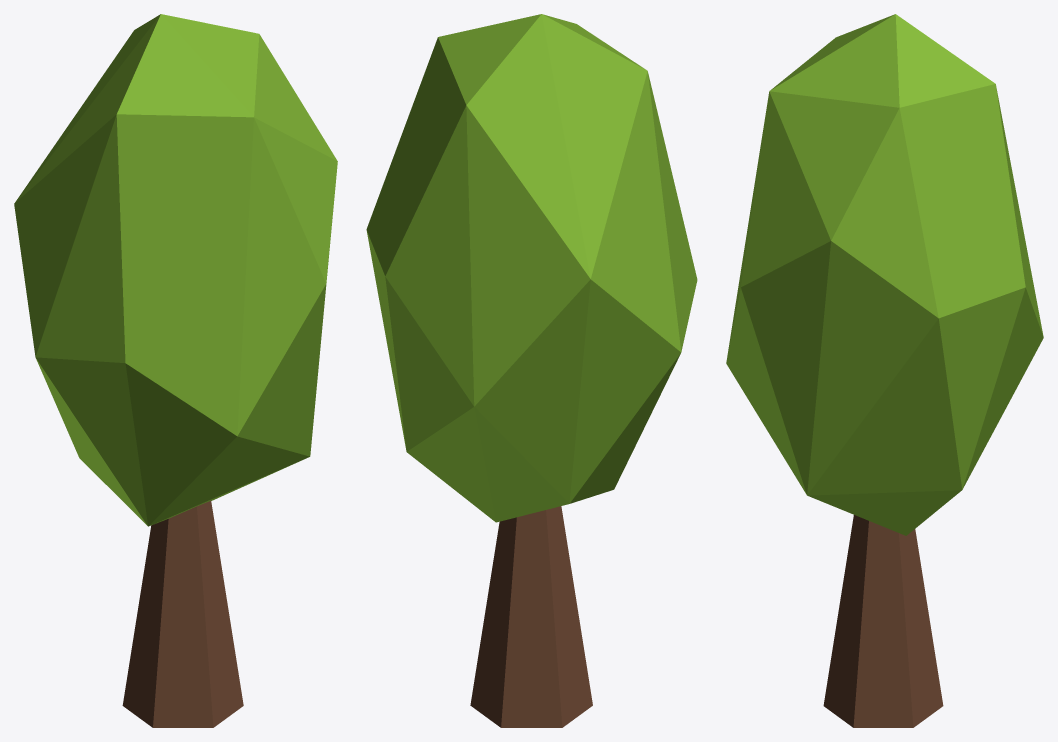
File: bush.fbx
The picture shows the model from 3 angles, left to right: view 1: azimuth 30°, elevation 25°; view 2: azimuth 150°, elevation 25°; view 3: azimuth 270°, elevation 25°; orthographic projection. The views are drawn at different scales.
Parts seen in each view (by area): view 1: Natures_Bush_01; view 2: Natures_Bush_01; view 3: Natures_Bush_01.
Boxes of the visible parts, bbox=[...] form: Natures_Bush_01: bbox=[14, 14, 337, 727]; Natures_Bush_01: bbox=[366, 14, 697, 727]; Natures_Bush_01: bbox=[726, 14, 1043, 727].
Bounding box in the file's own units: 132 × 307 × 129.
